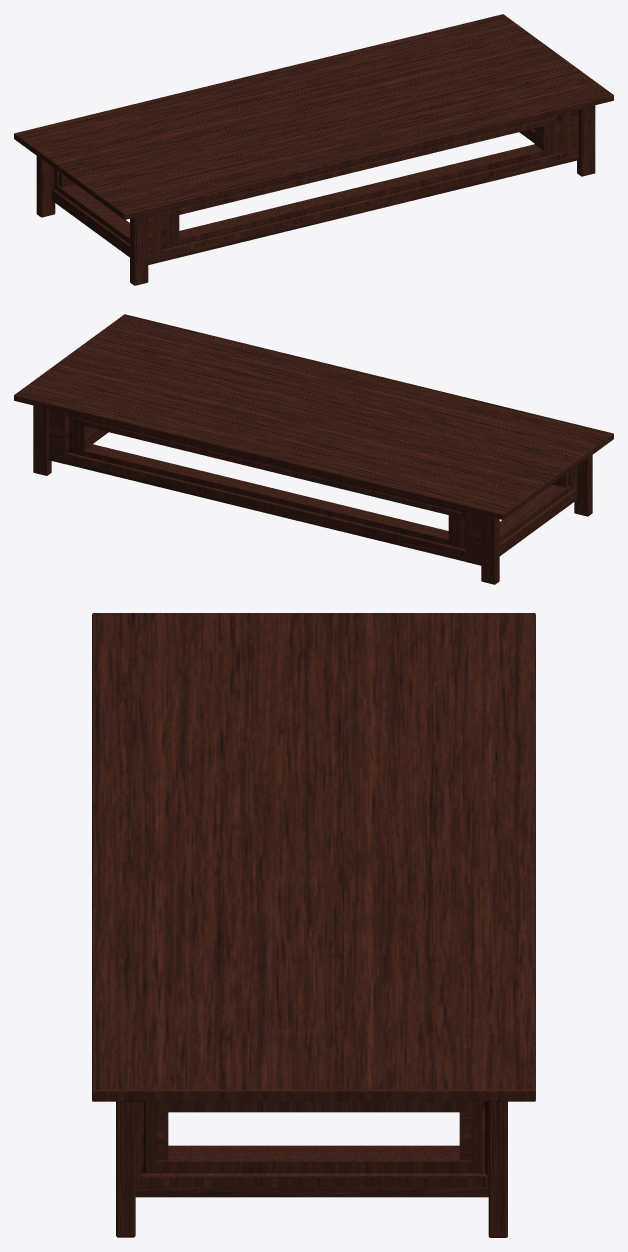
Rendered from CoffeeTable.fbx.
The picture shows the model from 3 angles, top to bottom: view 1: azimuth 30°, elevation 25°; view 2: azimuth 150°, elevation 25°; view 3: azimuth 270°, elevation 25°; orthographic projection. The views are drawn at different scales.
Parts seen in each view (by area): view 1: flaz, borders, Legs; view 2: flaz, borders, Legs; view 3: flaz, borders, Legs.
Part boxes in pixels (left/top/right/bottom): flaz: left=14, top=14, right=613, bottom=219; borders: left=52, top=109, right=578, bottom=264; Legs: left=36, top=105, right=595, bottom=285; flaz: left=14, top=314, right=613, bottom=519; borders: left=49, top=409, right=577, bottom=565; Legs: left=33, top=405, right=592, bottom=584; flaz: left=92, top=613, right=535, bottom=1101; borders: left=135, top=1101, right=488, bottom=1197; Legs: left=116, top=1101, right=507, bottom=1237.
Size of the model in its own units: 173 by 26.99 by 67.76.
Materials: 3 (3 with a texture image).
